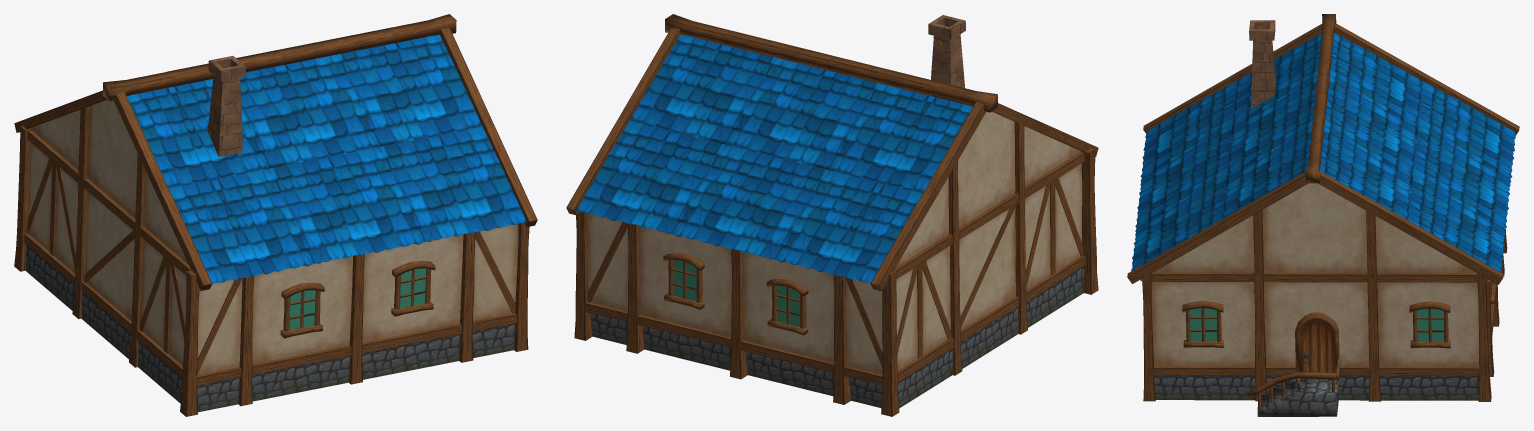
File: casa2.fbx
The picture shows the model from 3 angles, left to right: view 1: azimuth 30°, elevation 25°; view 2: azimuth 150°, elevation 25°; view 3: azimuth 270°, elevation 25°; orthographic projection. The views are drawn at different scales.
Visible parts, largest first — view 1: BH6; view 2: BH6; view 3: BH6.
Part boxes in pixels (left/top/right/bottom): BH6: left=14, top=14, right=537, bottom=416; BH6: left=566, top=14, right=1098, bottom=416; BH6: left=1127, top=14, right=1519, bottom=416.
Size of the model in its own units: 699 by 526 by 691.
